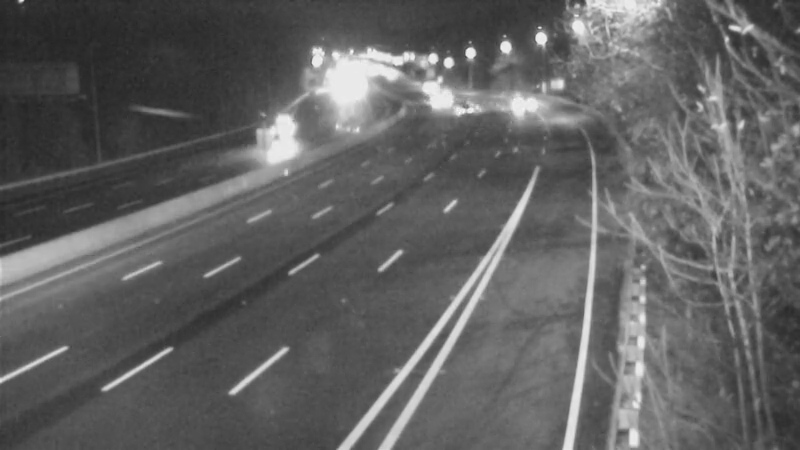vehicle: (398, 61, 448, 111), (497, 78, 547, 128), (416, 71, 466, 121), (442, 82, 492, 132), (255, 104, 305, 154)
